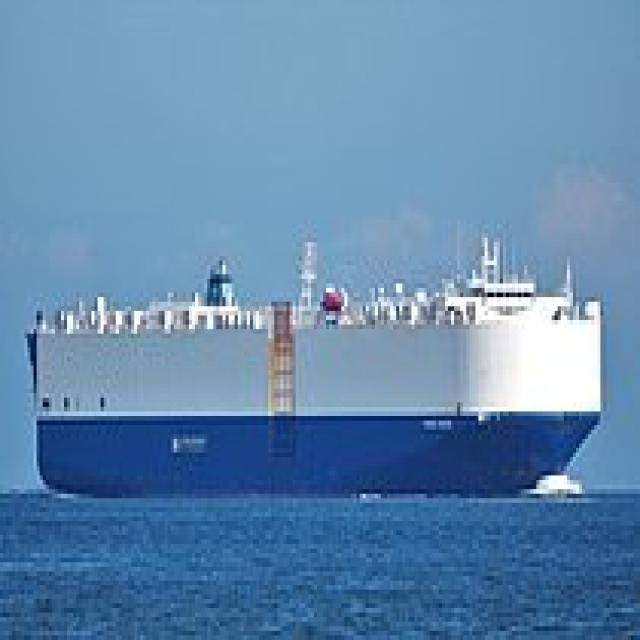Carrier: (19, 229, 604, 498)
